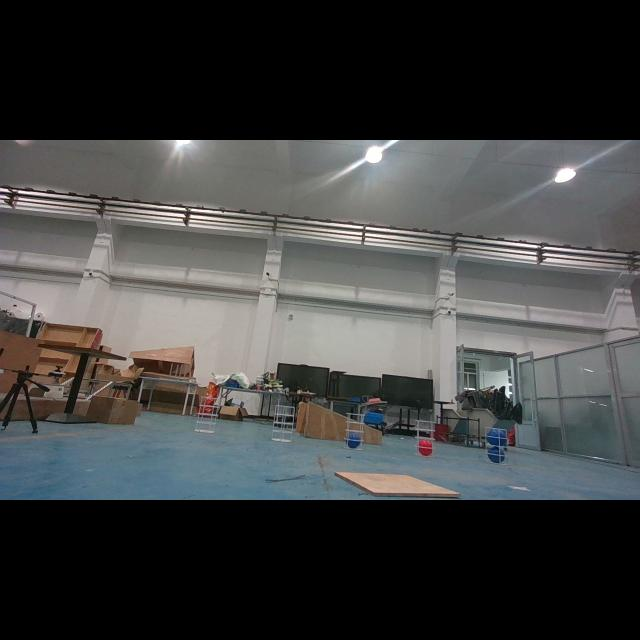B: (488, 429, 508, 447), (486, 448, 506, 464), (344, 434, 362, 448)
R: (417, 440, 433, 454)
S: (411, 418, 441, 460), (194, 395, 224, 435), (483, 426, 511, 468), (270, 403, 296, 445), (342, 410, 366, 452)
